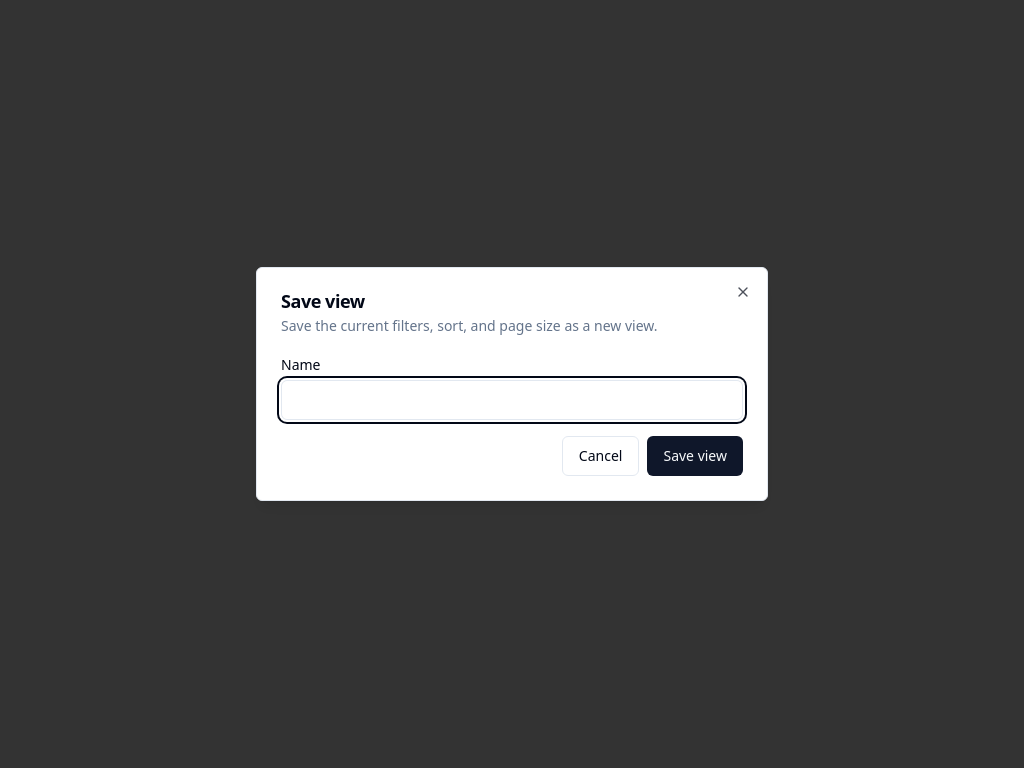
Test case: SaveViewDialog › surfaces server errors
Type "Dup" into the field labelled "Name" at (512, 400), box x1=281 y1=380 x2=743 y2=420
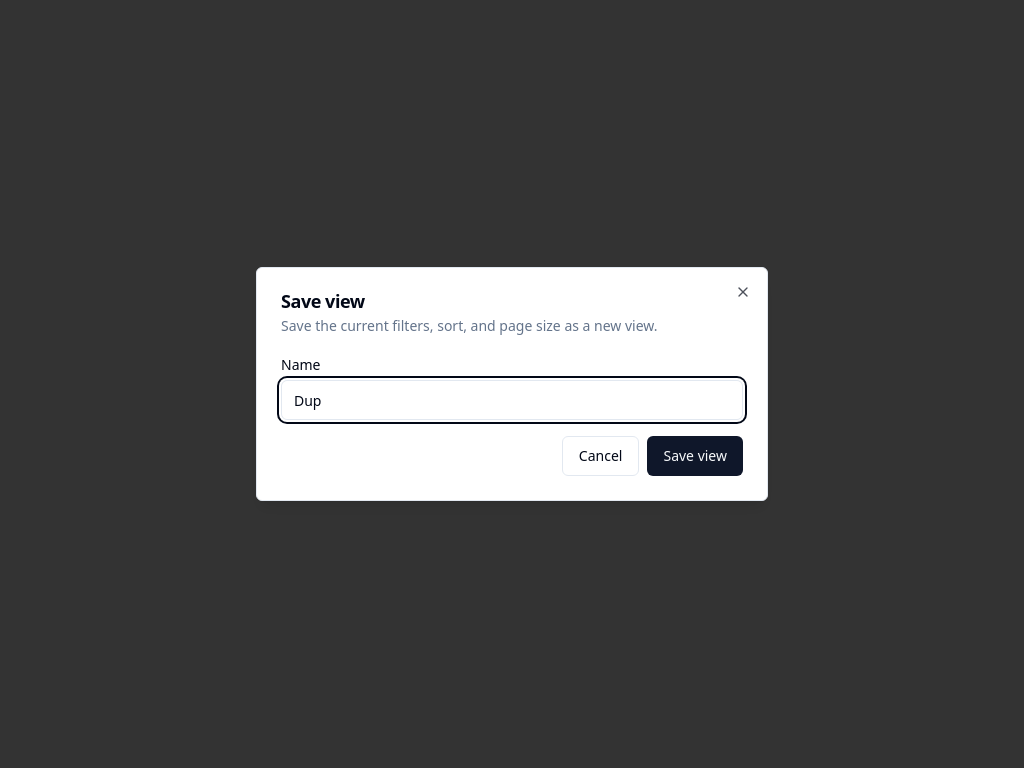
Click the button "Save view" at (695, 456), box x1=648 y1=436 x2=743 y2=476
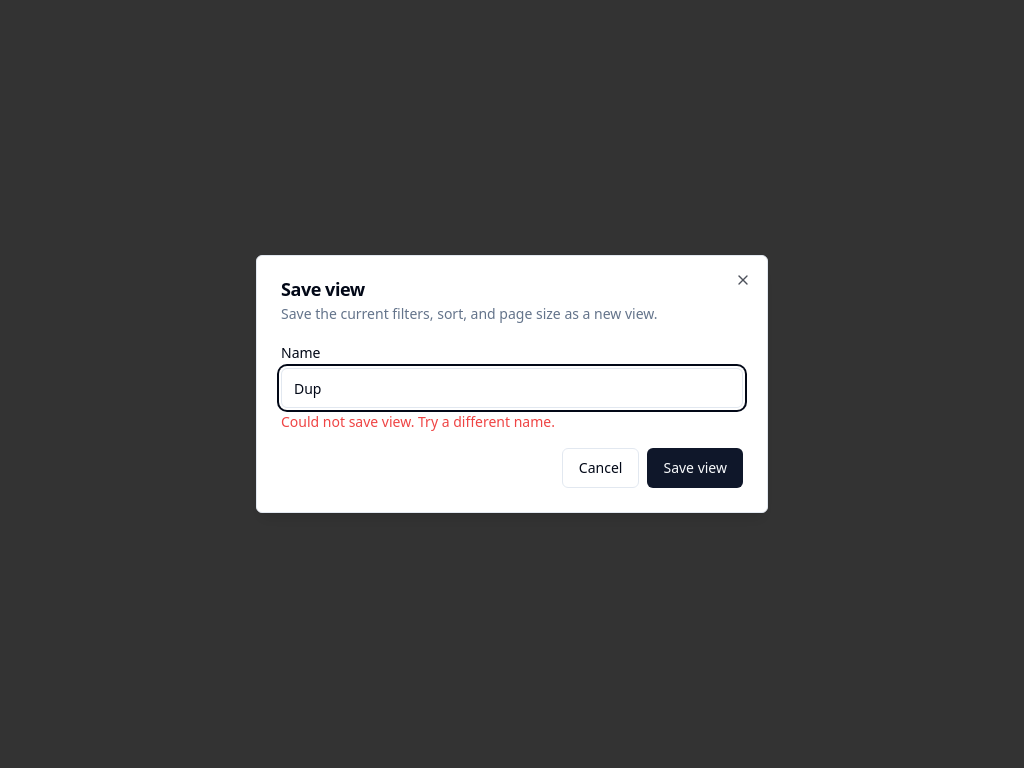
Expected: the text "Could not save view. Try a different name." is shown, x1=281 y1=412 x2=555 y2=431
